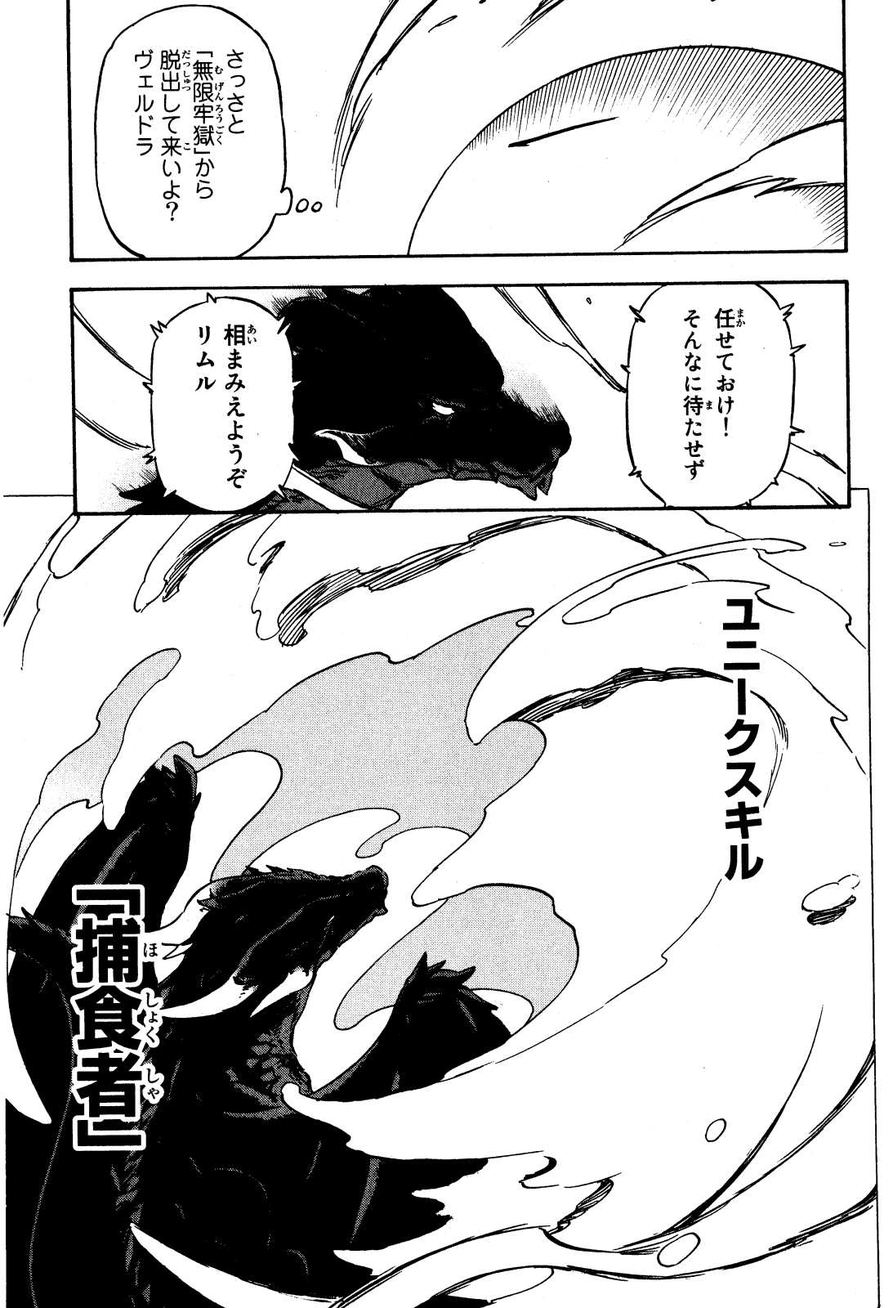bubbles: (87, 2, 330, 261), (614, 283, 810, 508), (137, 289, 304, 510)
